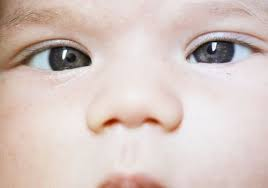pupil: (49, 46, 90, 71), (194, 41, 234, 63)
